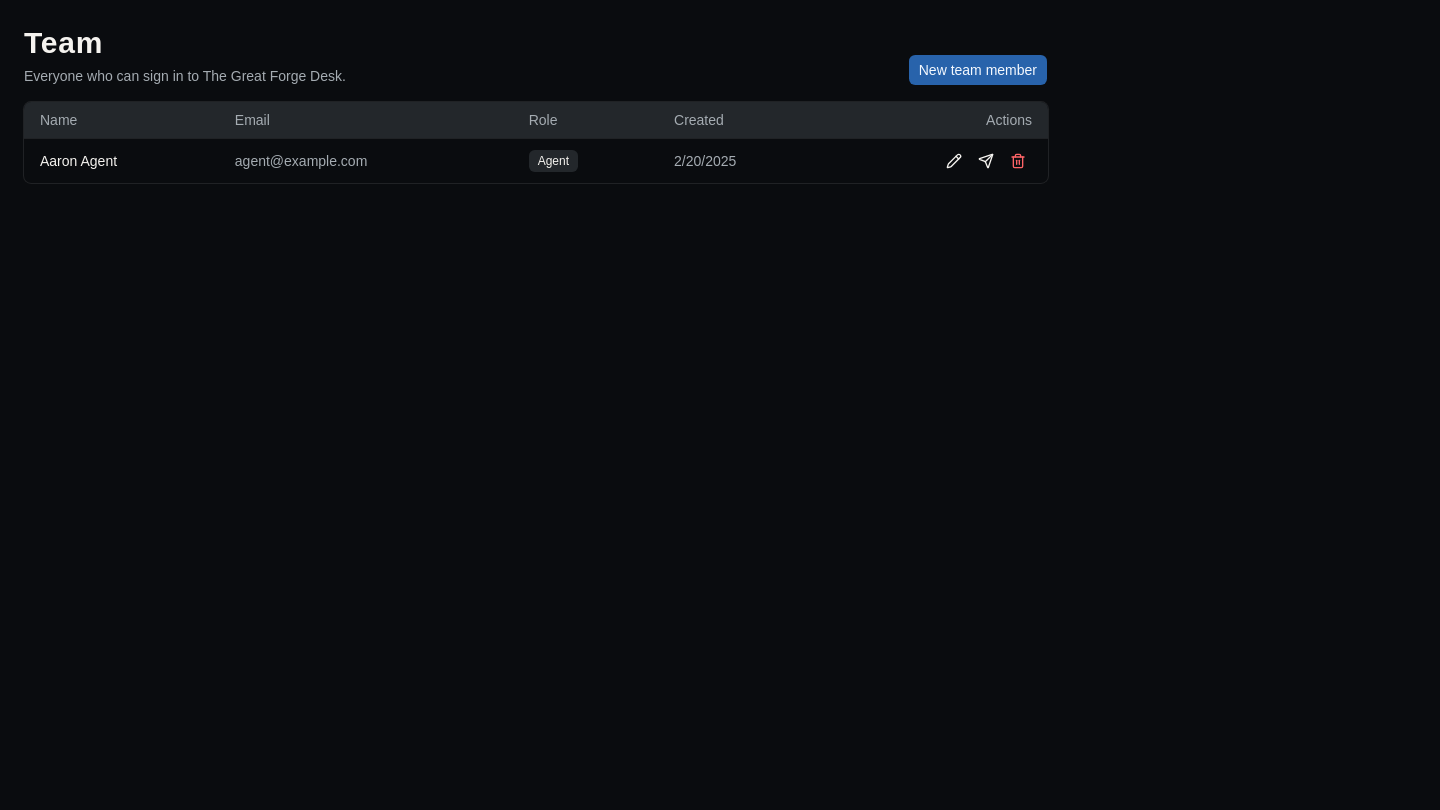
Test: UsersPage — delete user › opens a confirmation dialog that says what the delete does
This screenshot has width=1440, height=810.
expect the text "Aaron Agent" is shown: met, box [24,138,219,182]
Click the button named "Delete Aaron Agent" at (1018, 160), box [1004,146,1032,174]
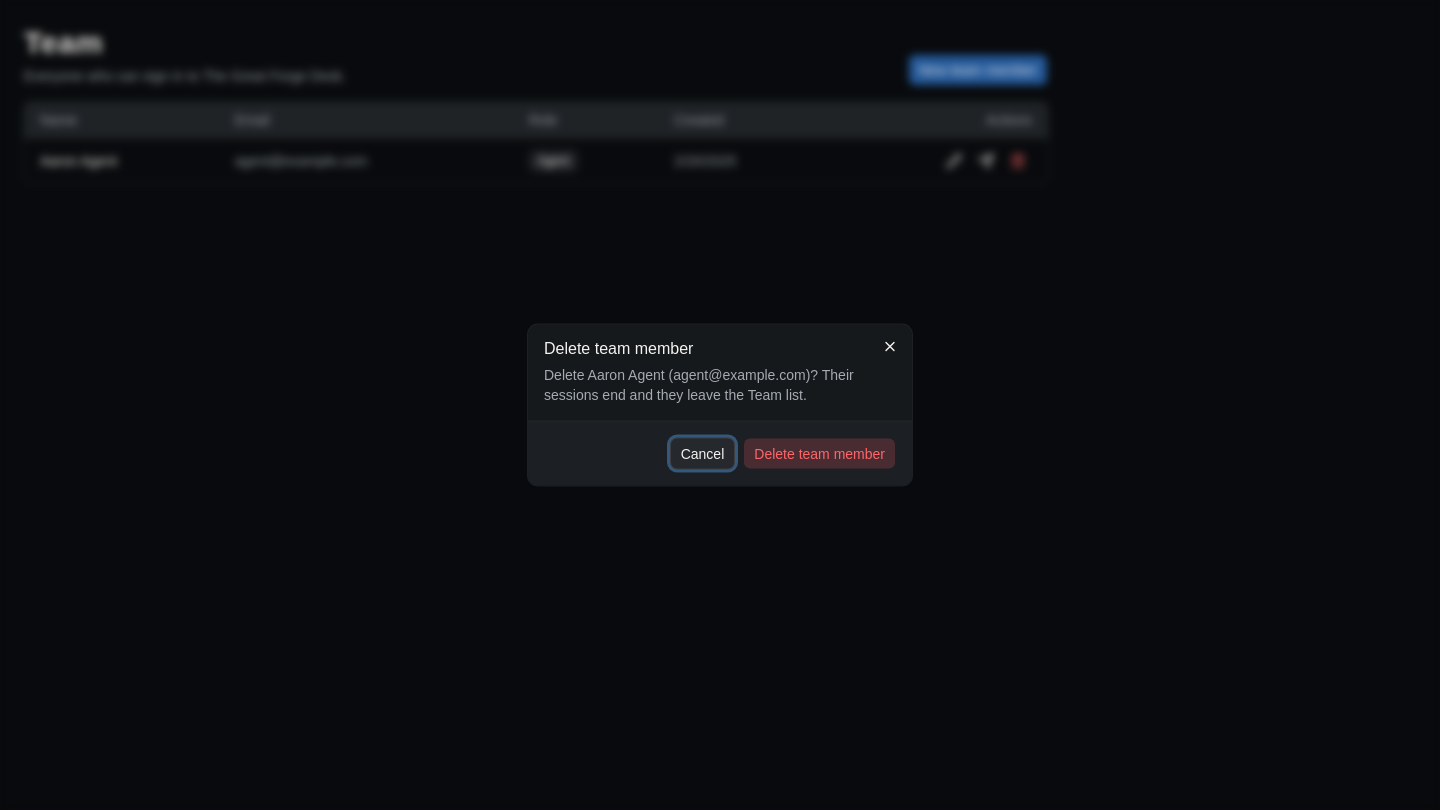
expect the heading "Delete team member" is shown: met, box [544,340,693,356]
expect the text "Delete Aaron Agent (agent@example.com)? Their sessions end and they leave the Team list." is shown: met, box [544,366,854,402]
